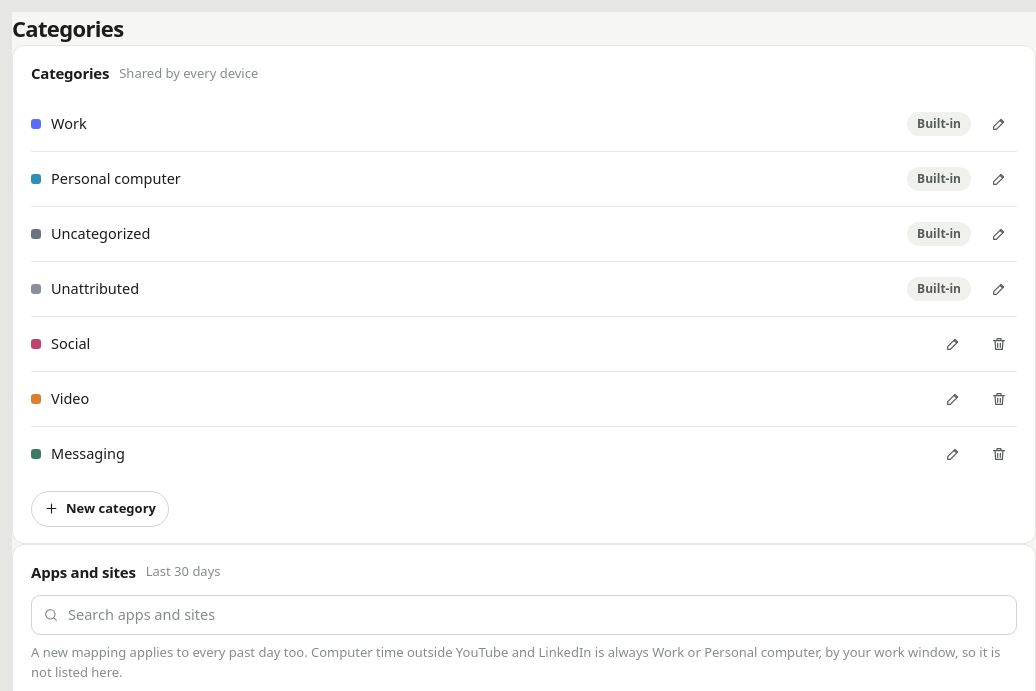
Test case: Categories › renames and recolours a category, but keeps built-in names
Click the button named "Edit Social": x=953, y=344 [935,326,971,362]
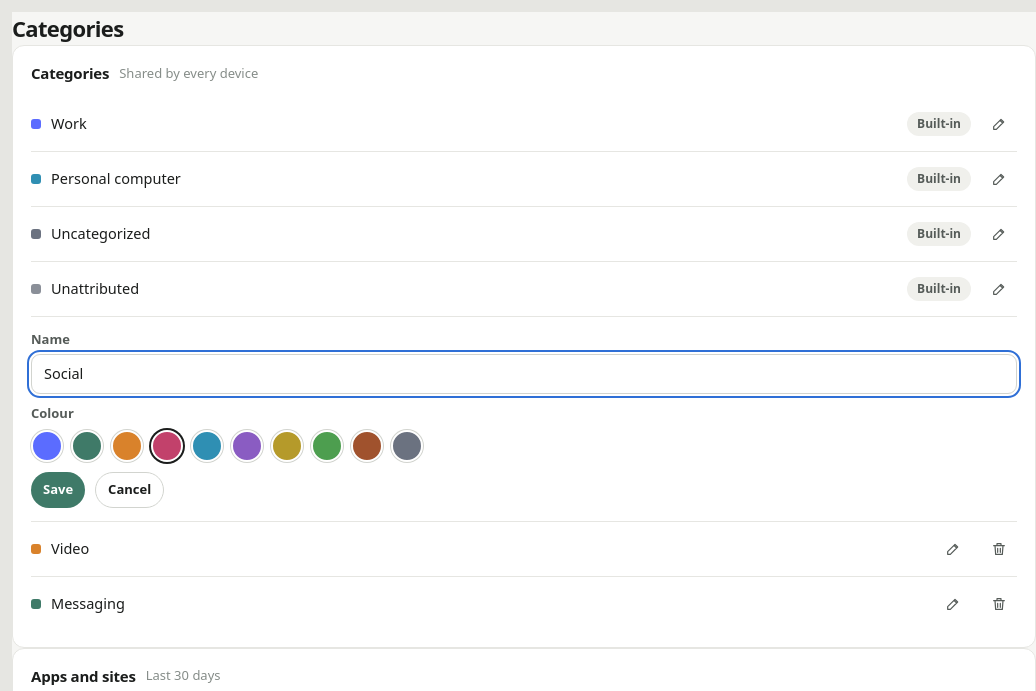
Replace the text in the field labelled "Name" with "Feeds": x=524, y=374 [31,354,1017,394]
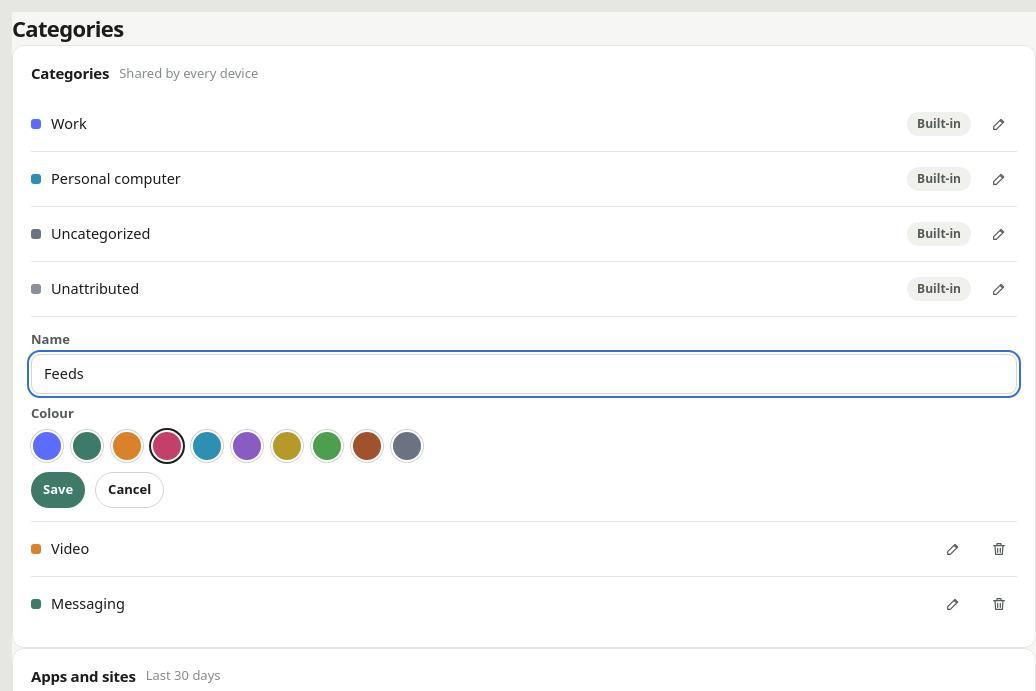
Click the radio button named "Colour 3": x=127, y=446 [111,430,143,462]
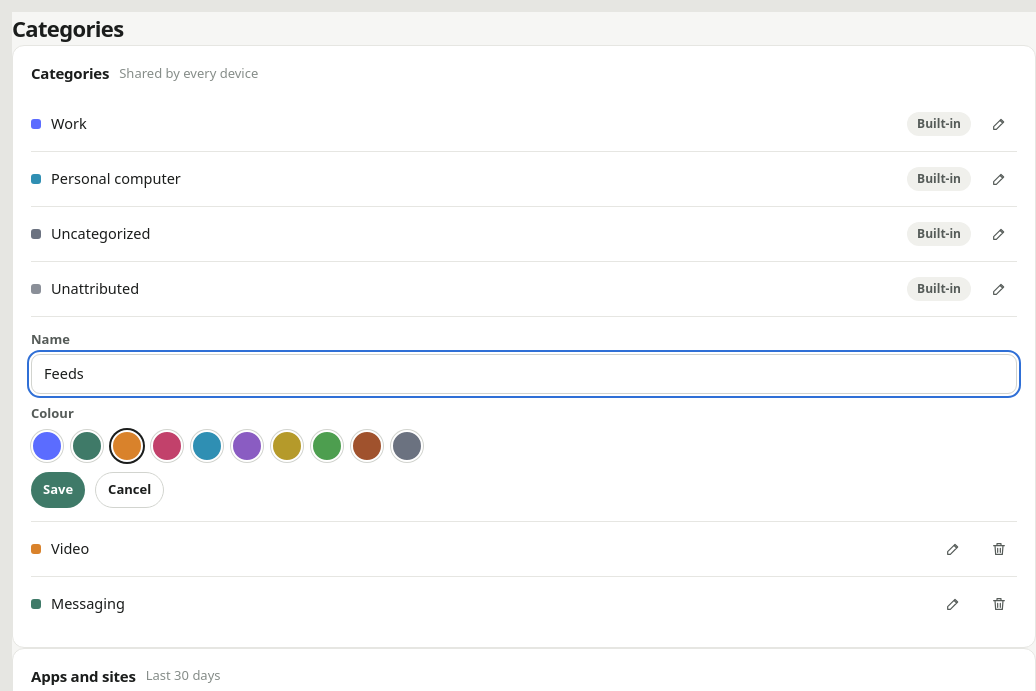
Click the button "Save": x=58, y=490 [31,472,85,508]
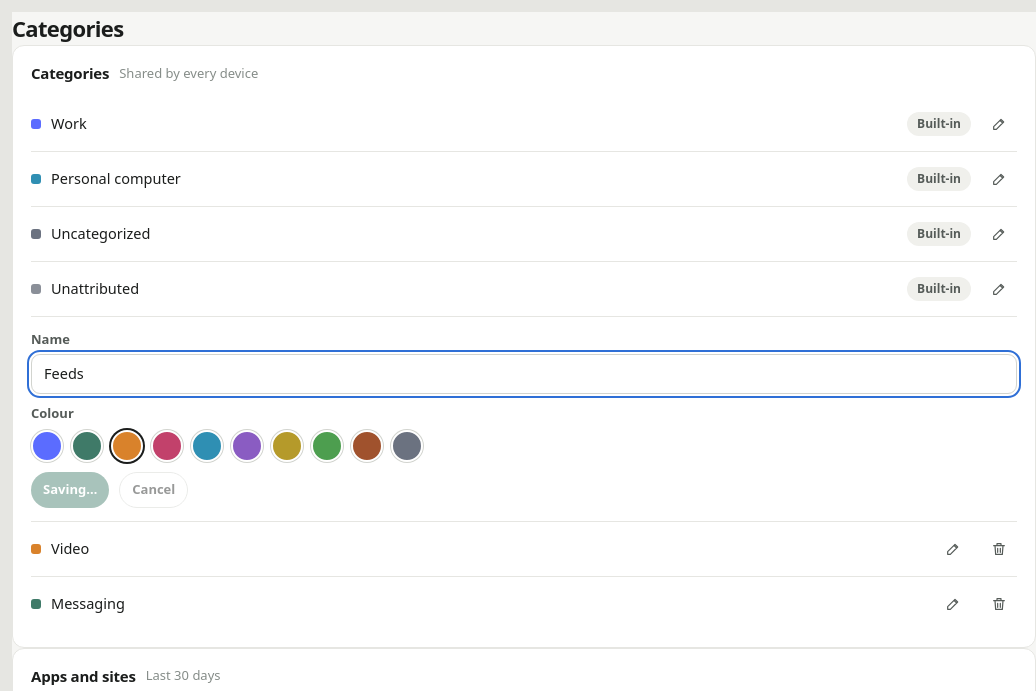
Click the button named "Edit Work": x=999, y=124 [981,106,1017,142]
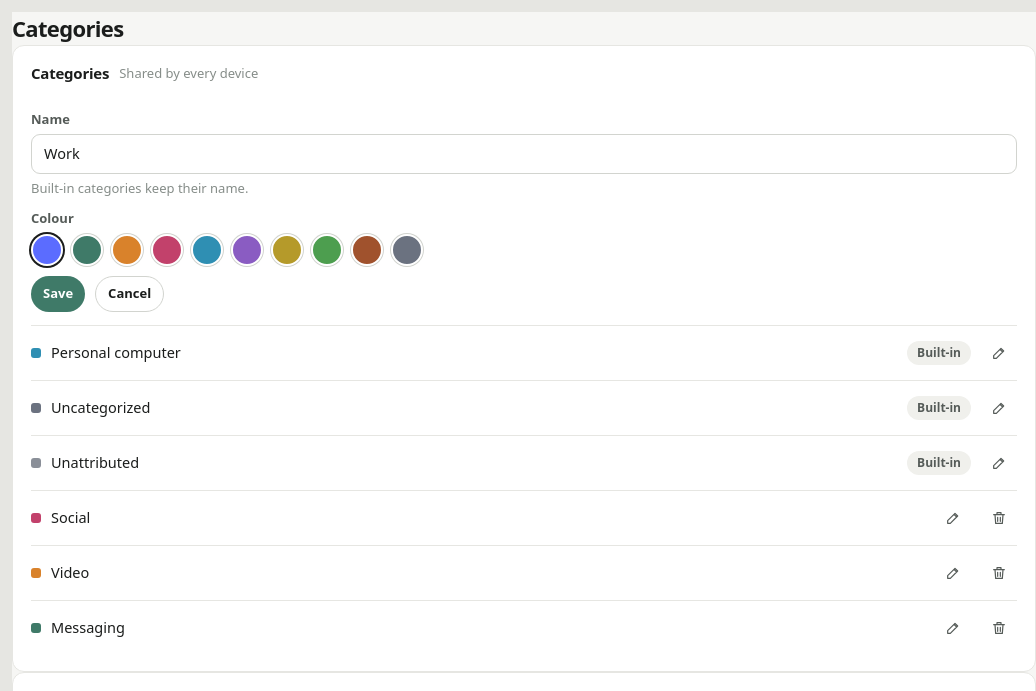
Expected: the field labelled "Name" is disabled, [31,134,1017,174]
